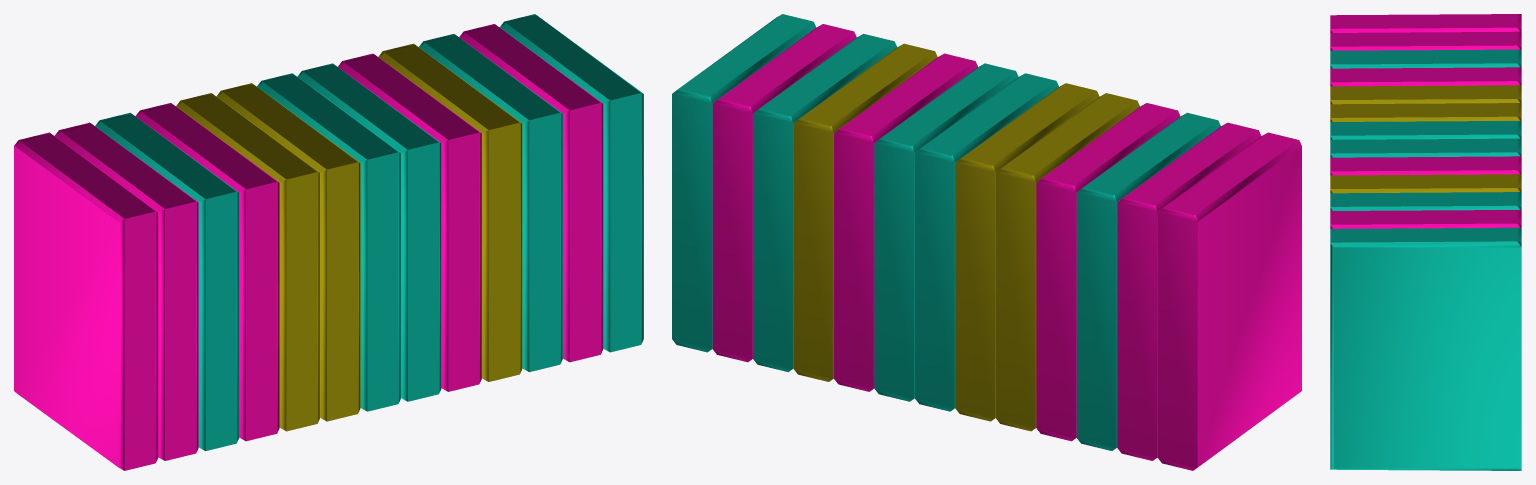
Rendered from Book_Group_02.FBX.
The picture shows the model from 3 angles, left to right: view 1: azimuth 30°, elevation 25°; view 2: azimuth 150°, elevation 25°; view 3: azimuth 270°, elevation 25°; orthographic projection. The views are drawn at different scales.
Visible parts, largest first — view 1: book029; view 2: book029; view 3: book029.
Part boxes in pixels (x1=…): book029: x1=14, y1=14, x2=643, y2=470; book029: x1=672, y1=14, x2=1301, y2=470; book029: x1=1330, y1=14, x2=1521, y2=470.
Bounding box in the file's own units: 86 × 39.83 × 30.08.
